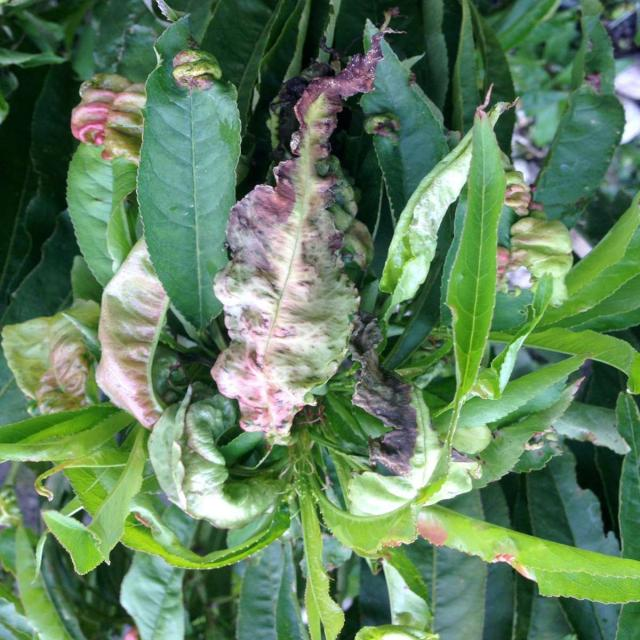peach_leaf_curl: (201, 52, 452, 531), (58, 59, 225, 166)
